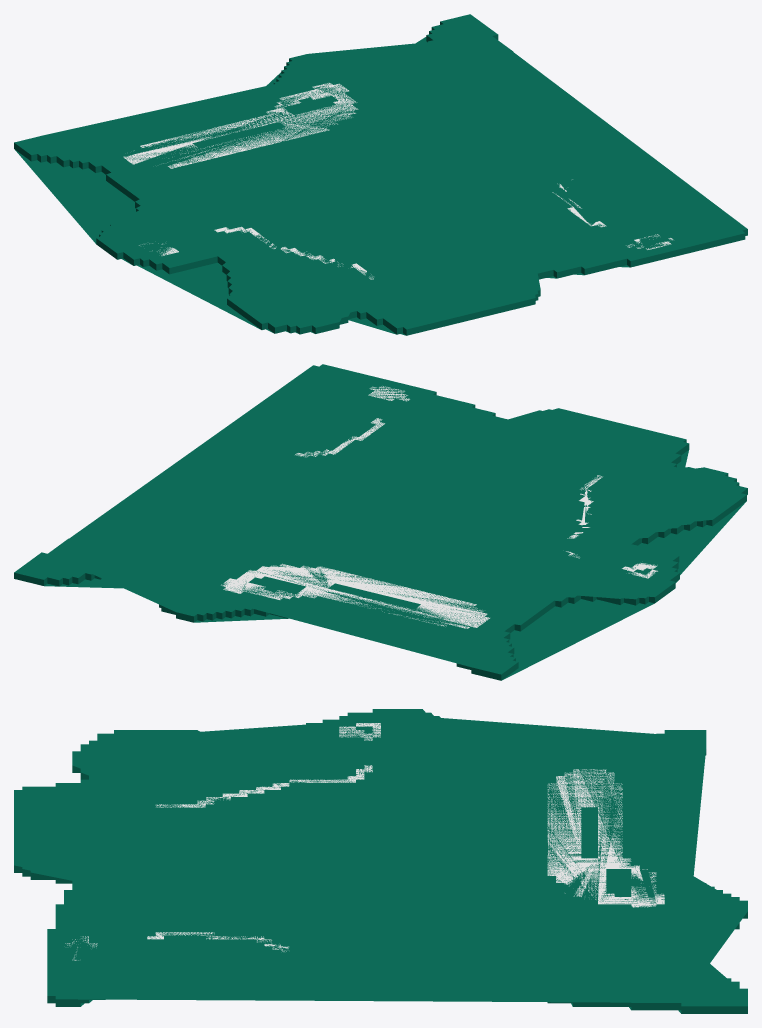
File: Cleaning_Puddle.fbx
3 views of the same model, one above another, from view 1: azimuth 30°, elevation 25°; view 2: azimuth 150°, elevation 25°; view 3: azimuth 270°, elevation 25° (orthographic). The views are drawn at different scales.
Parts seen in each view (by area): view 1: puddle_clean; view 2: puddle_clean; view 3: puddle_clean.
Part boxes in pixels (x1=…): puddle_clean: x1=14, y1=14, x2=747, y2=335; puddle_clean: x1=14, y1=364, x2=747, y2=680; puddle_clean: x1=14, y1=709, x2=747, y2=1013.
Size of the model in its own units: 1.81 by 0.0214 by 1.89.
